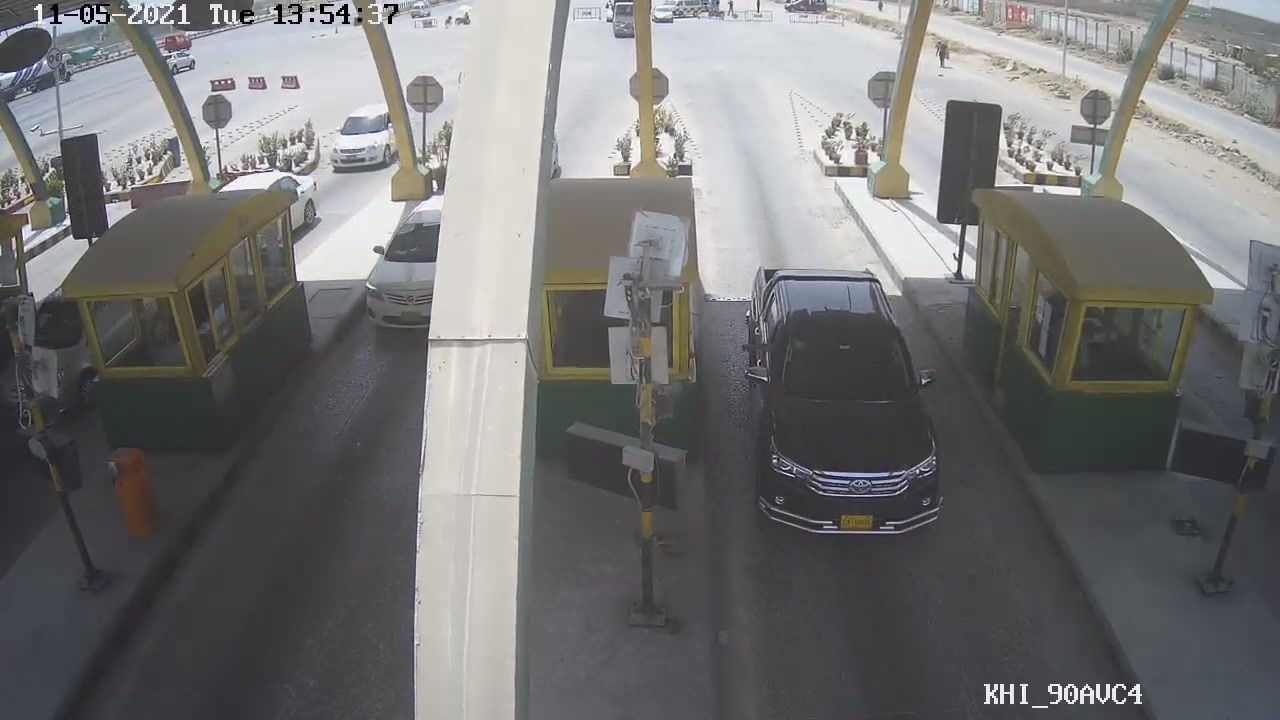F1: (735, 261, 957, 548)
